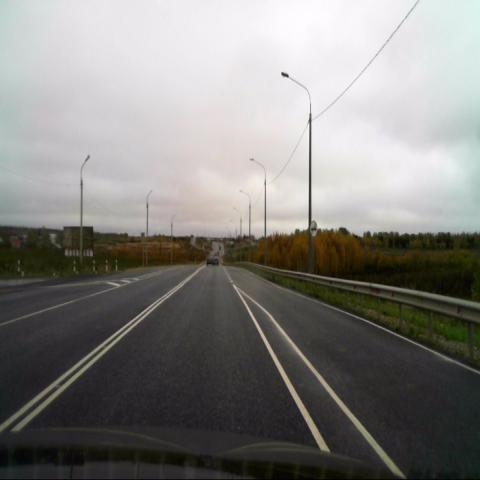3_21: (309, 220, 318, 237)
